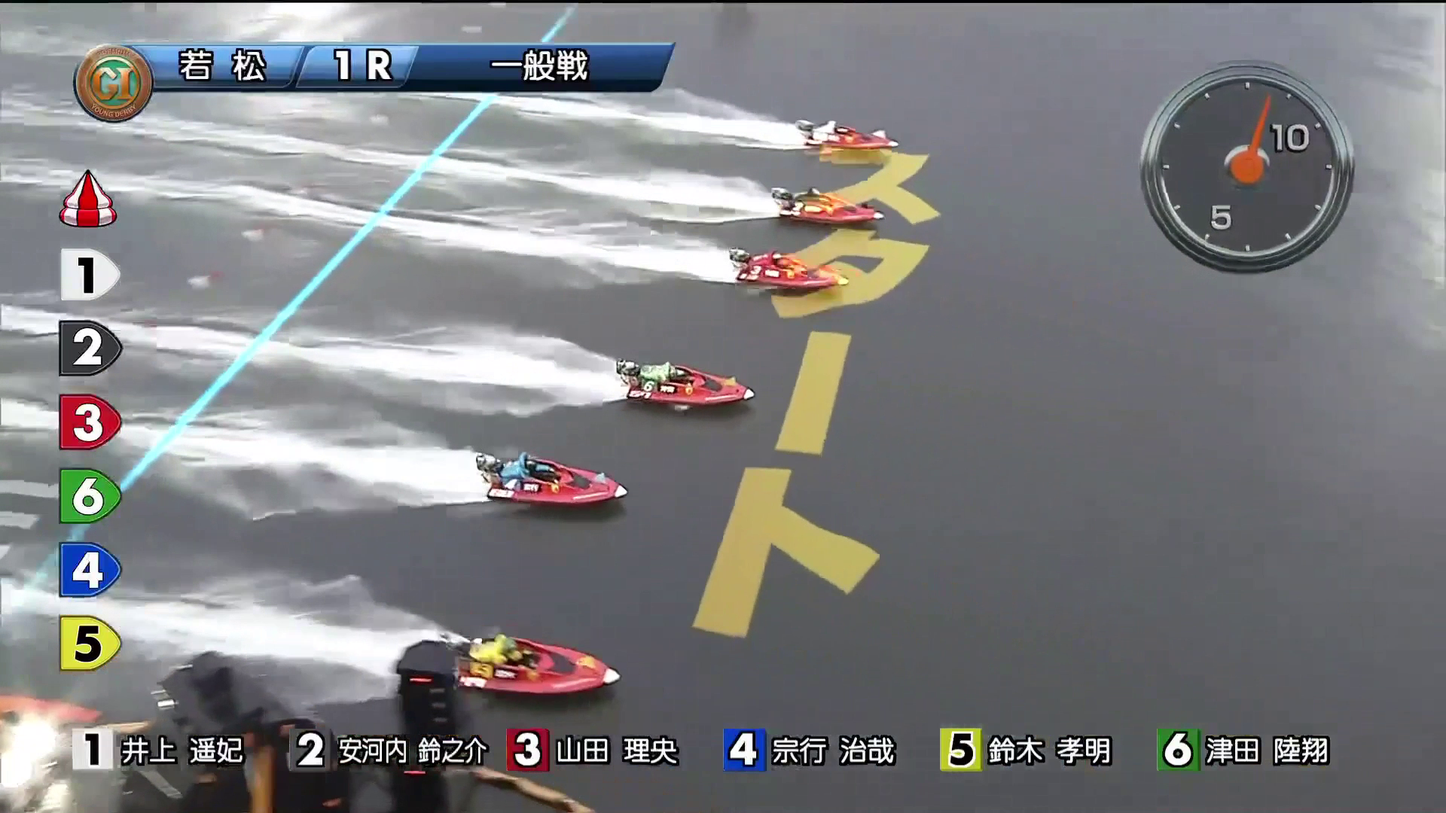１号艇: (784, 125, 867, 172)
２号艇: (794, 195, 877, 233)
３号艇: (749, 254, 839, 295)
４号艇: (646, 360, 732, 403)
５号艇: (507, 458, 602, 504)
６号艇: (473, 644, 585, 696)
